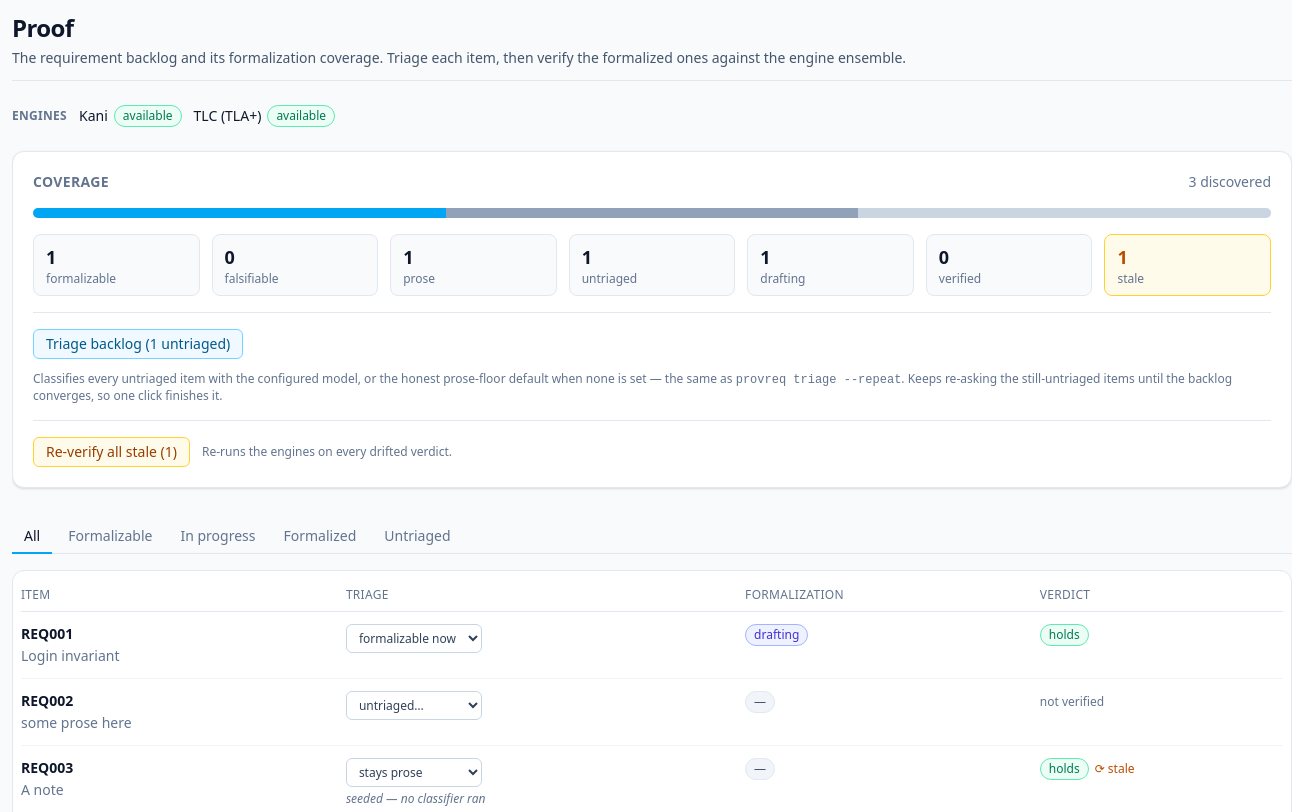
Test: ProofPage › 'Re-verify all stale' re-runs each drifted item then refreshes
Click the button "Re-verify all stale (1)" at x=112, y=452, box [33,437,190,467]
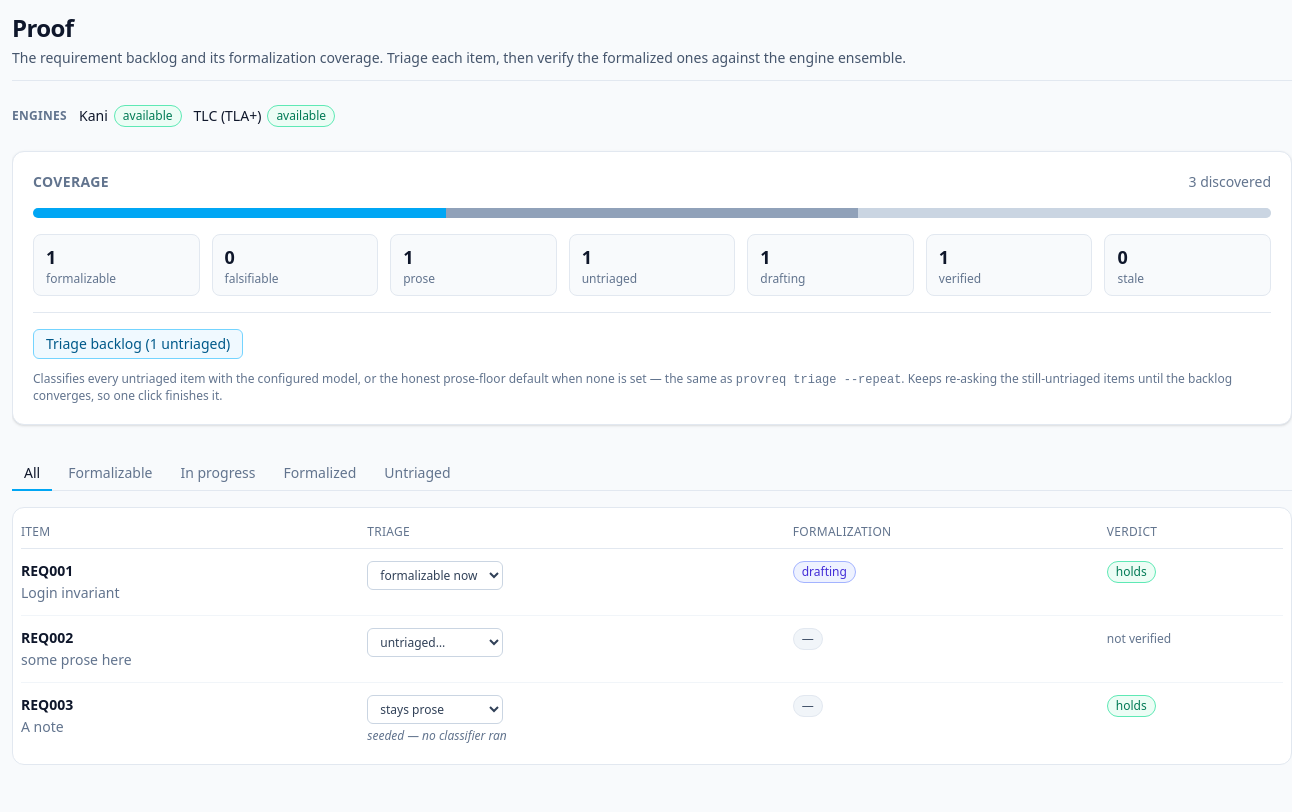
Result: the button "Re-verify all stale" is gone
